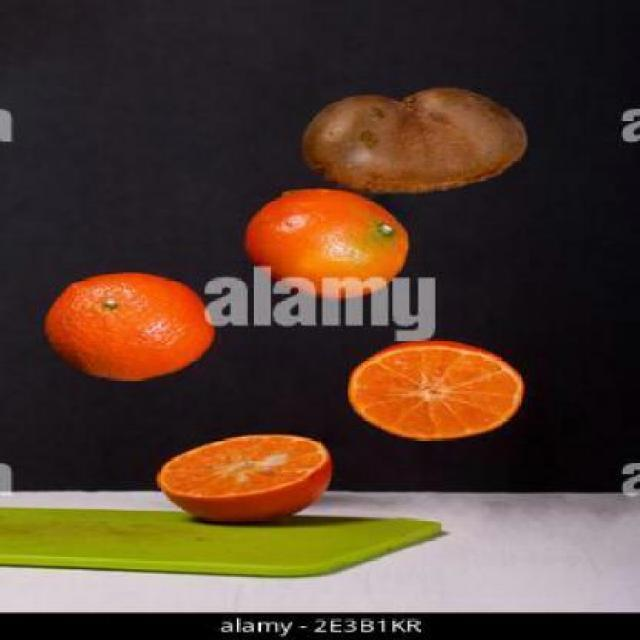Jeruk Sudah Matang: (43, 273, 220, 378), (248, 188, 408, 292)
